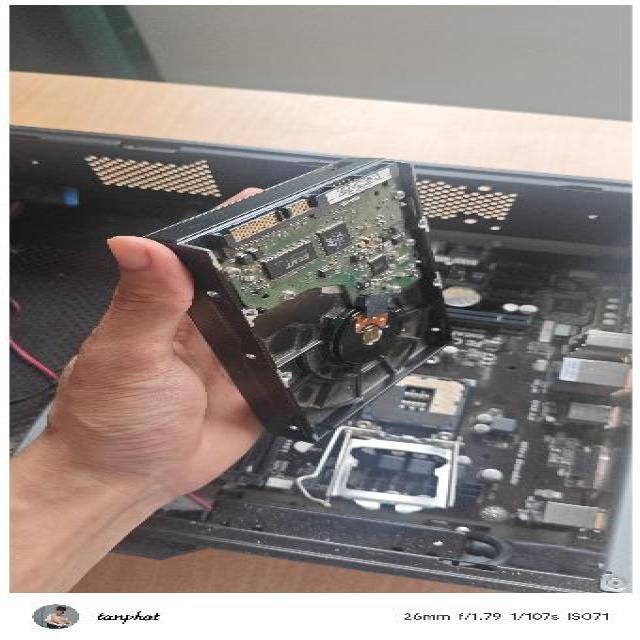DISK: (127, 157, 470, 446)
